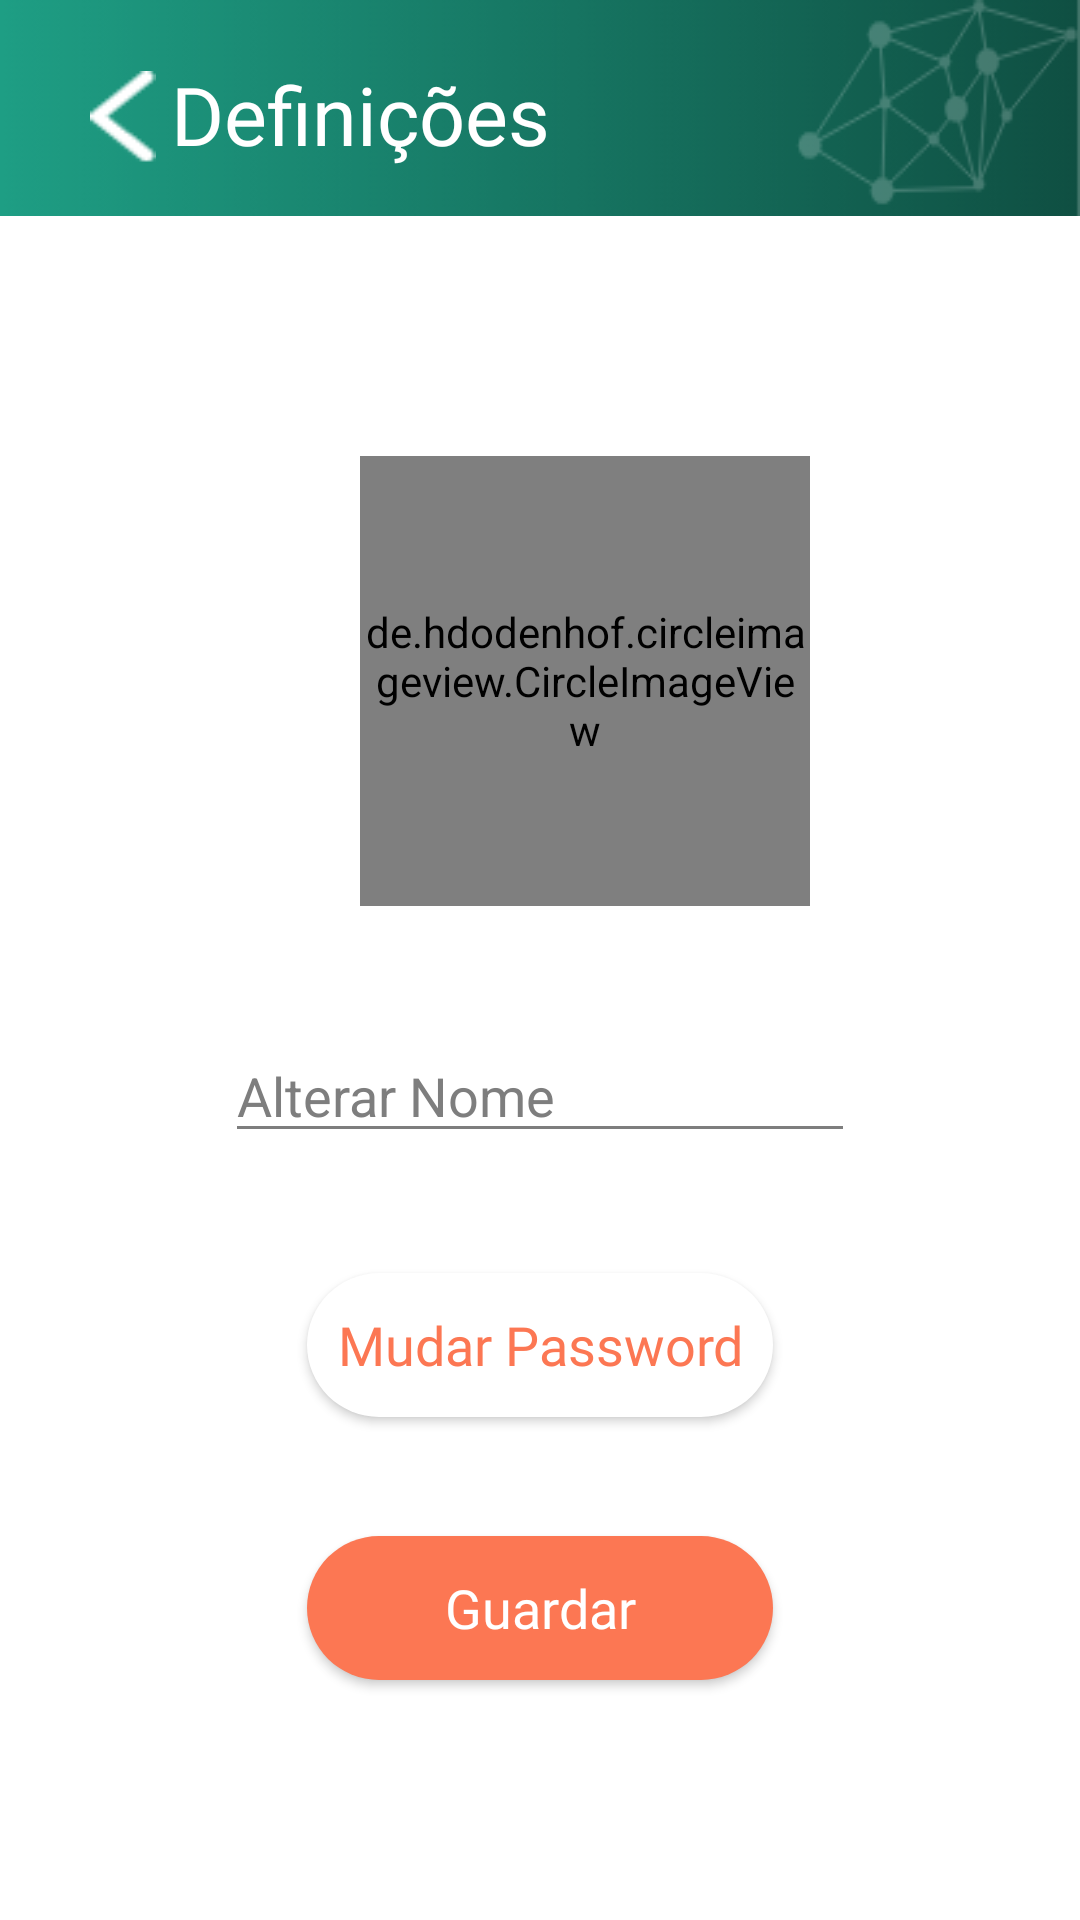

Named icons in this screenshot (1080 x 1920) and their bounding boxes, box(x1, y1, x2, y2):
back arrow: box(90, 71, 156, 162)
